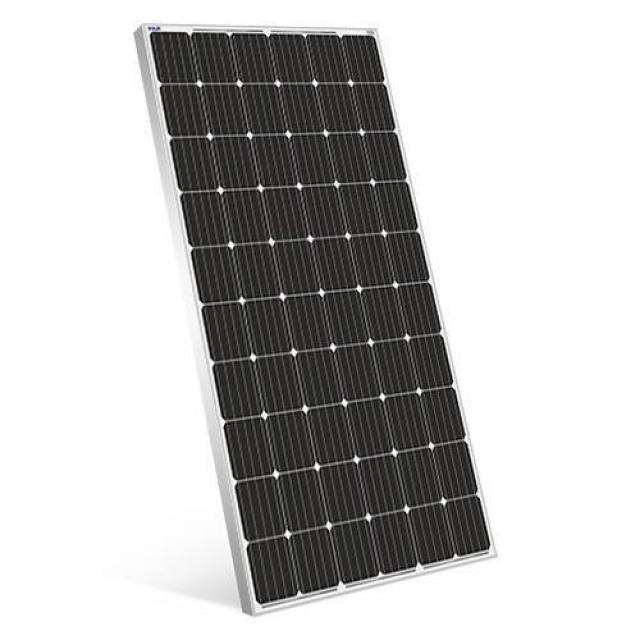clean-solar-panel: (139, 25, 491, 611)
